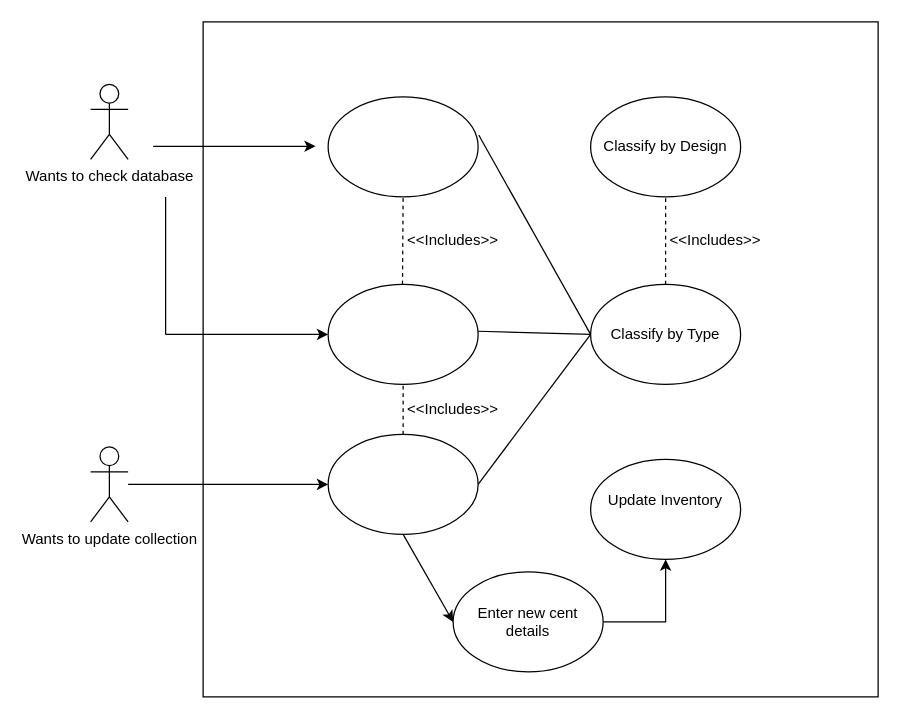
Some shapes in this 900 by 719 pixel diagram are drawn without their labels. The centre of each missing label's shape, as x and y in pixels:
"Open Personal Collection" goes at [402,483].
"Search by Mint" goes at [402,146].
"Search For Cent" goes at [402,333].
